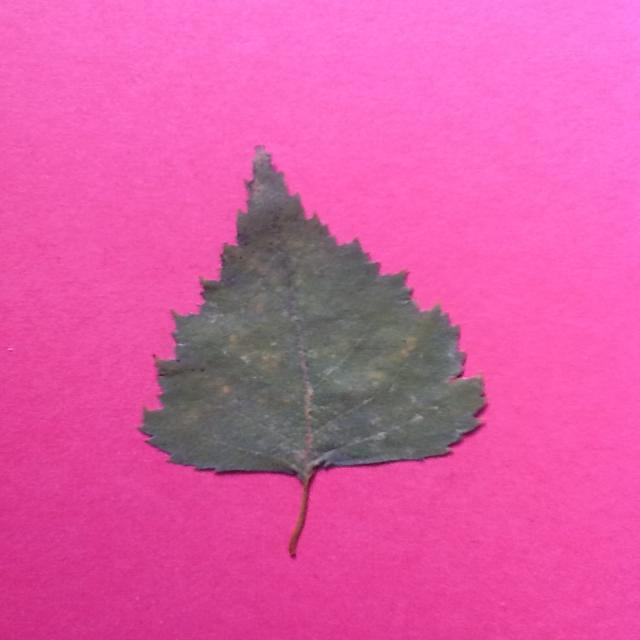foliage: (135, 141, 498, 564)
